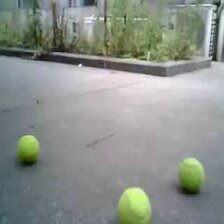tennis: (117, 187, 152, 224), (178, 159, 205, 191), (18, 135, 39, 163)
